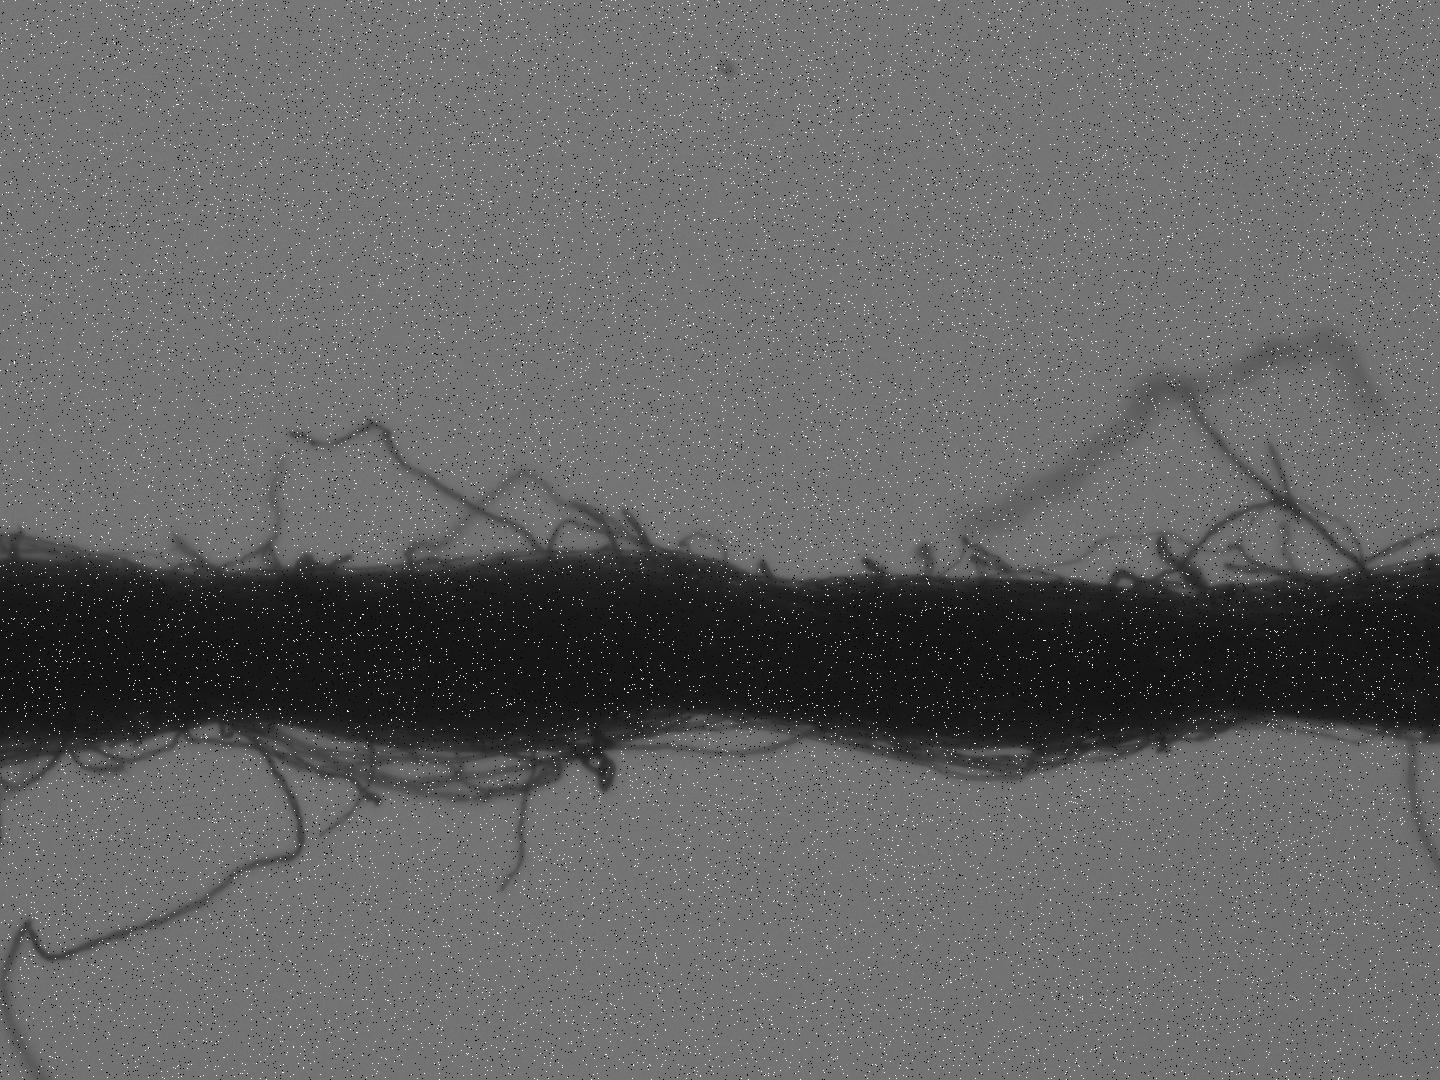loop_fiber: (260, 720, 621, 787), (1141, 496, 1362, 592), (407, 472, 641, 563), (554, 716, 816, 758), (273, 724, 509, 763), (891, 737, 1083, 786), (547, 522, 676, 567), (1253, 710, 1390, 743), (1057, 725, 1162, 767), (946, 744, 1039, 779), (1163, 711, 1252, 743), (93, 733, 179, 765), (634, 714, 744, 736), (674, 533, 725, 567), (168, 559, 218, 583), (1101, 571, 1141, 593), (240, 717, 273, 739), (218, 722, 234, 737)
protruding_fiber: (1, 736, 306, 1071), (288, 419, 544, 555), (259, 727, 383, 810), (495, 745, 533, 897), (854, 547, 876, 576)
